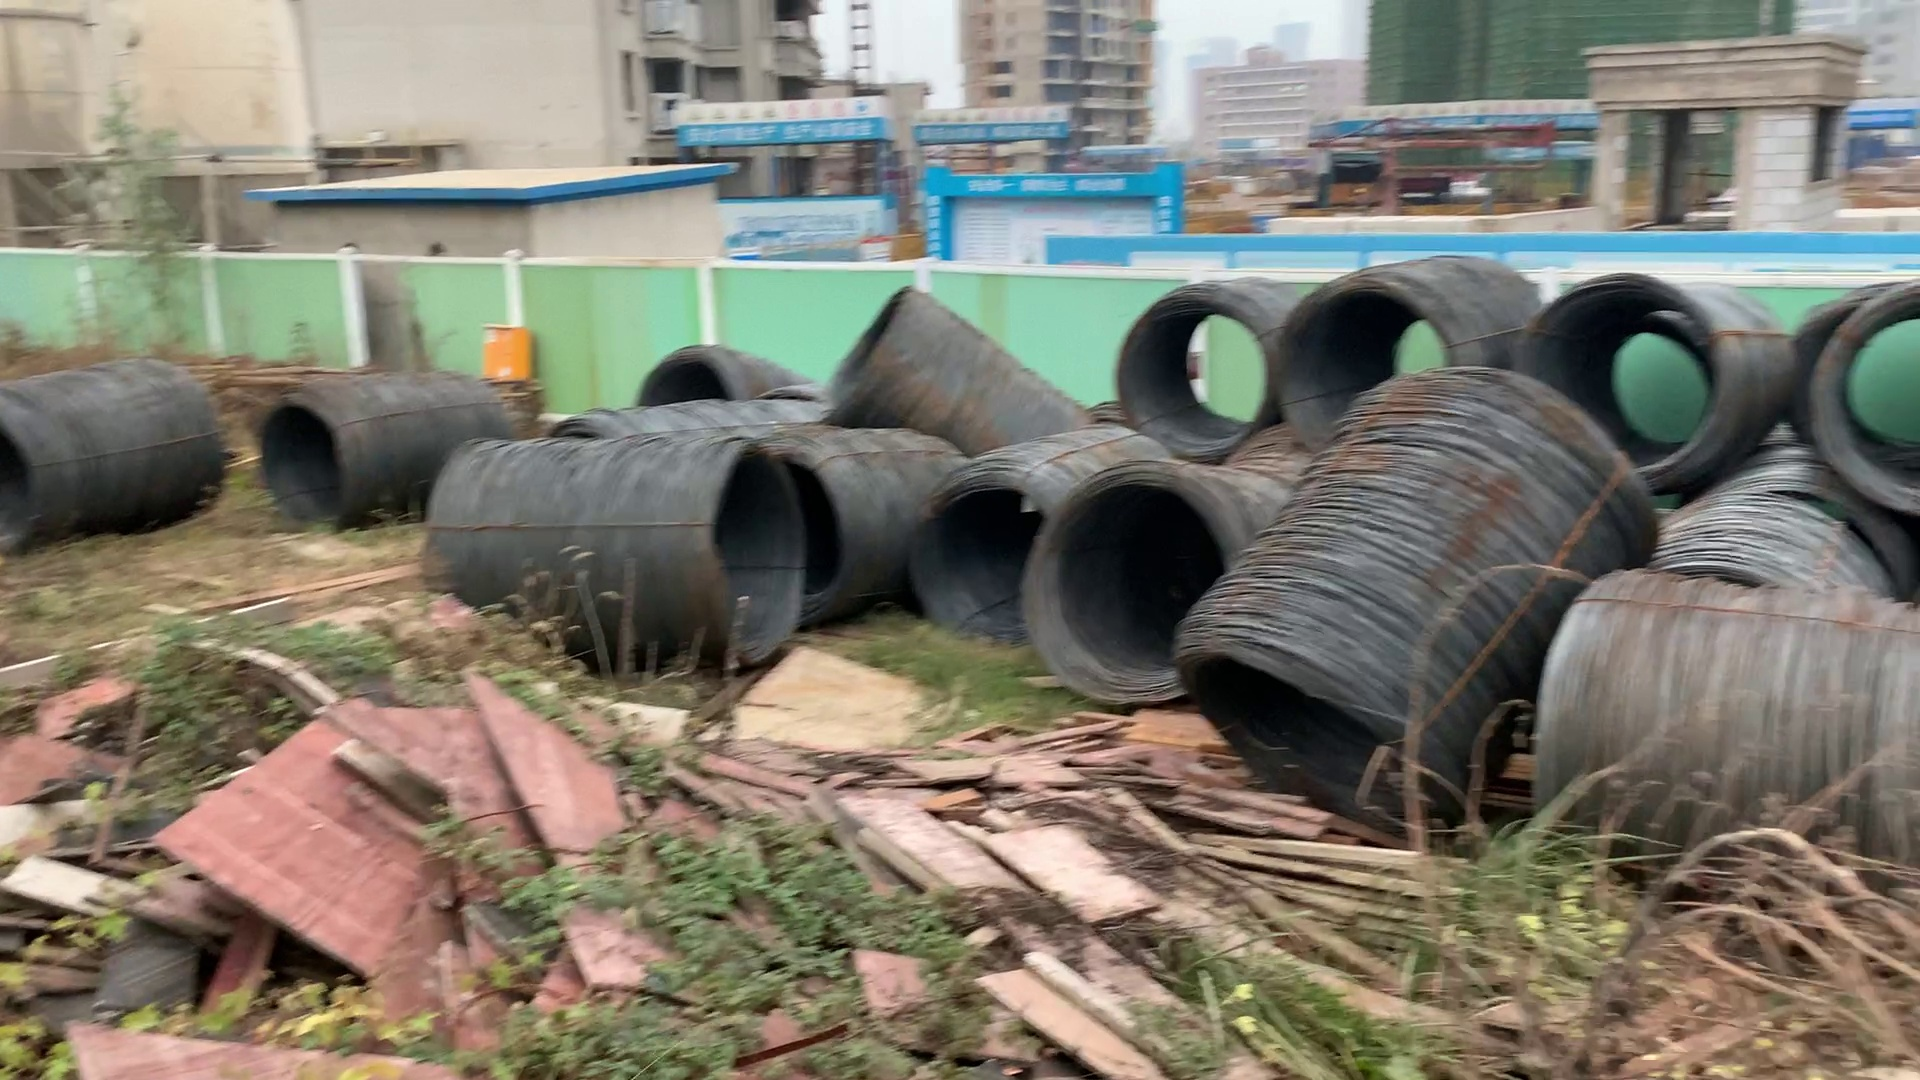coil: (1168, 641, 1443, 857), (1033, 465, 1226, 713), (1532, 272, 1729, 485), (1276, 277, 1468, 471), (1098, 282, 1271, 454), (907, 473, 1052, 644), (1813, 285, 1920, 510), (713, 438, 810, 674), (767, 448, 857, 636), (249, 396, 360, 538), (818, 299, 910, 407), (624, 349, 767, 415), (1, 390, 44, 568)
